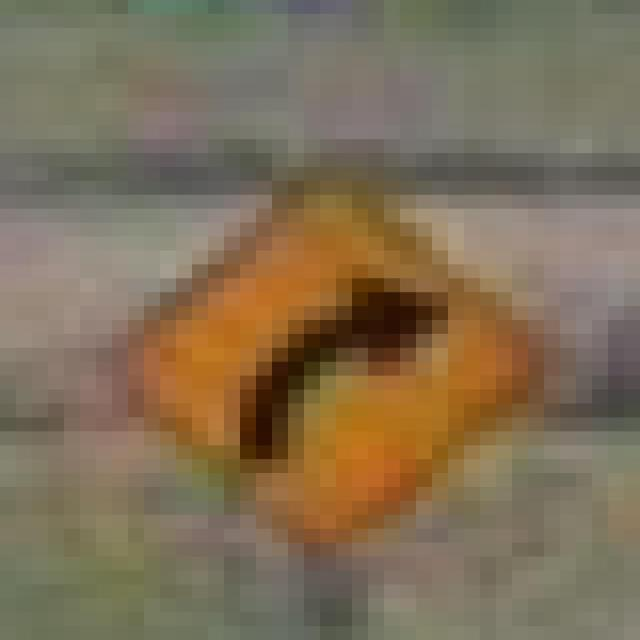Tikungan Ke Kanan: (48, 111, 544, 557)
